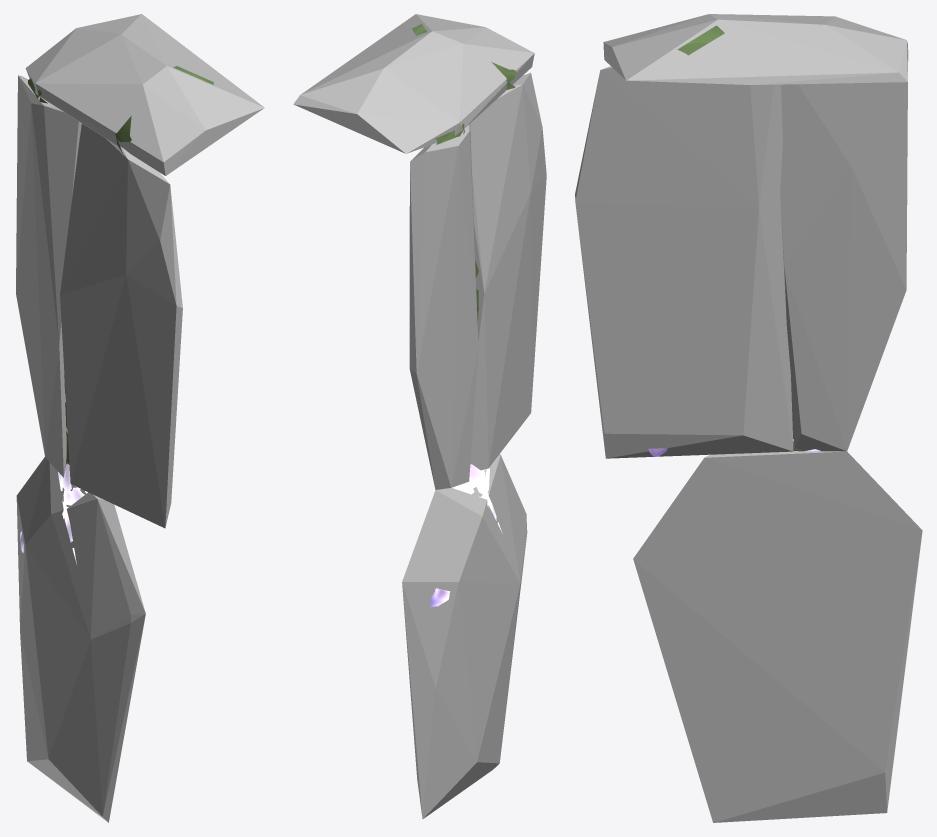
Rendered from SM_Env_Vines_Preset_Overhang_03.fbx.
3 views of the same model, side by side, from view 1: azimuth 30°, elevation 25°; view 2: azimuth 150°, elevation 25°; view 3: azimuth 270°, elevation 25° (orthographic). The views are drawn at different scales.
Parts seen in each view (by area): view 1: SM_Env_Vines_Preset_Overhang_03_ConvexHulls, SM_Env_Vines_Preset_Overhang_03; view 2: SM_Env_Vines_Preset_Overhang_03_ConvexHulls, SM_Env_Vines_Preset_Overhang_03; view 3: SM_Env_Vines_Preset_Overhang_03_ConvexHulls, SM_Env_Vines_Preset_Overhang_03.
Part boxes in pixels (box(x1,y1,x2,y2)): SM_Env_Vines_Preset_Overhang_03_ConvexHulls: box(16, 14, 264, 822); SM_Env_Vines_Preset_Overhang_03: box(20, 66, 213, 564); SM_Env_Vines_Preset_Overhang_03_ConvexHulls: box(293, 14, 546, 818); SM_Env_Vines_Preset_Overhang_03: box(412, 24, 516, 607); SM_Env_Vines_Preset_Overhang_03_ConvexHulls: box(575, 14, 922, 822); SM_Env_Vines_Preset_Overhang_03: box(648, 25, 820, 456).
Size of the model in its own units: 52.25 by 96.96 by 257.
Materials: 3 (2 with a texture image).
